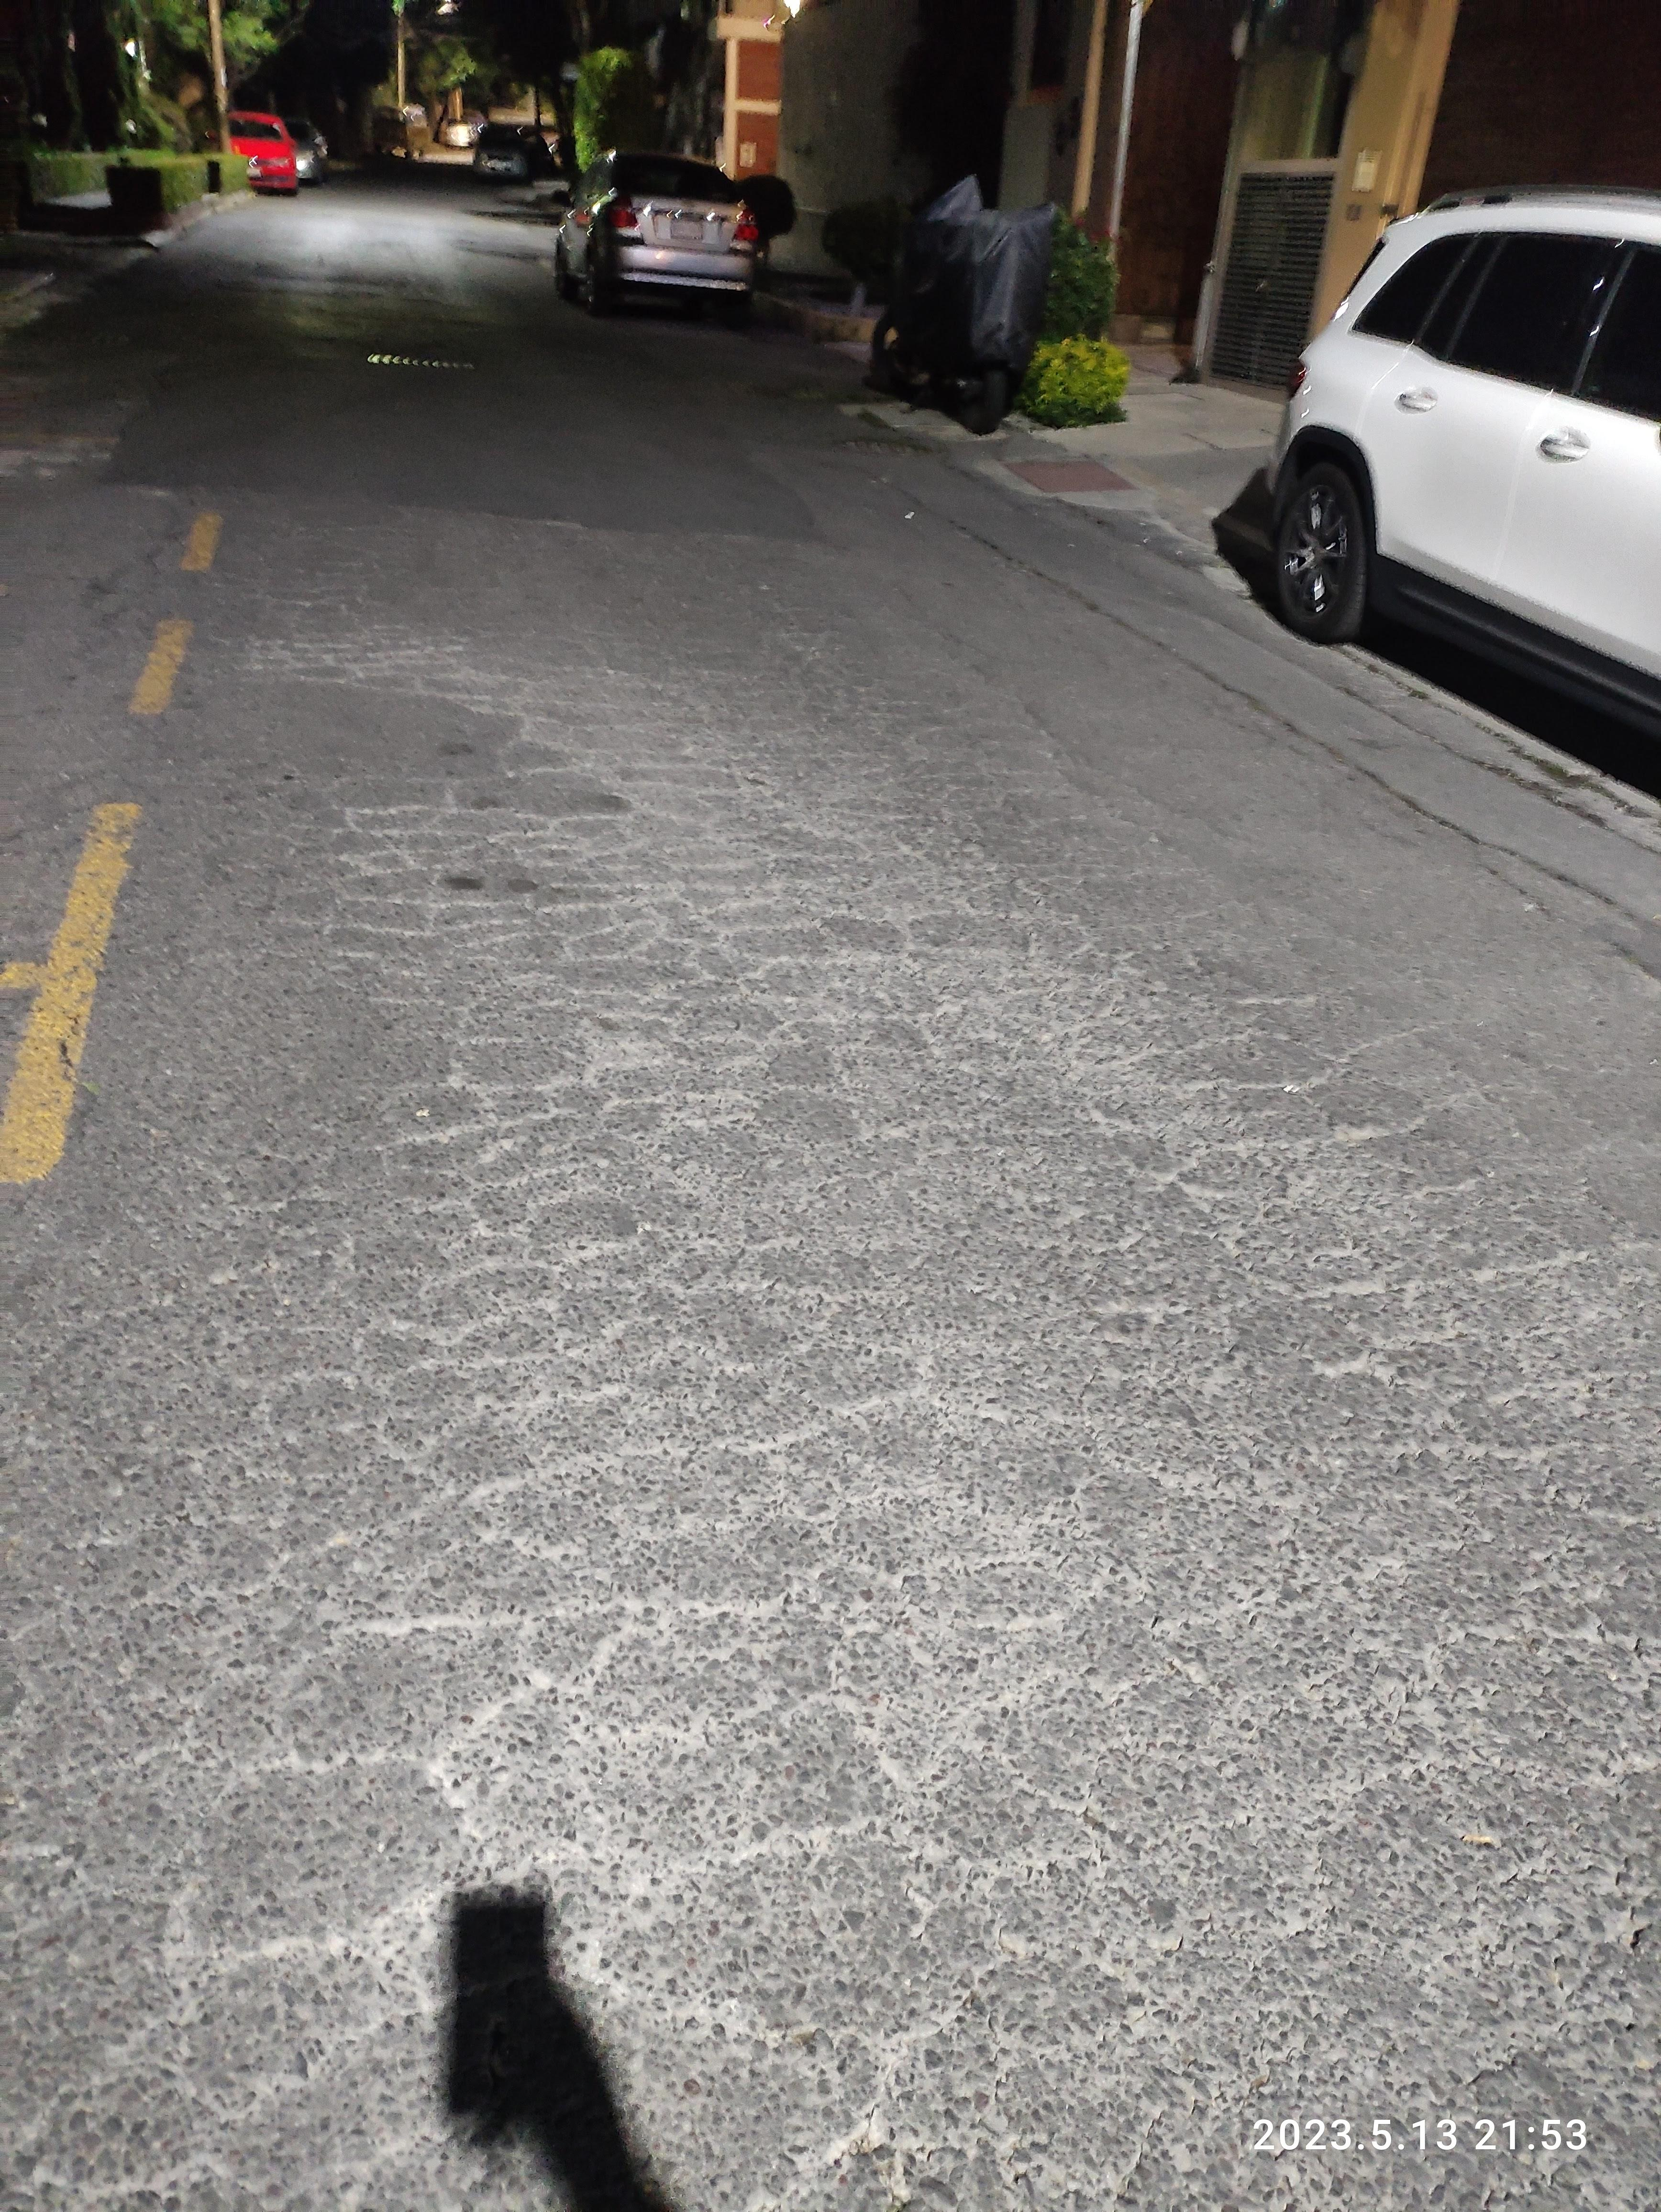alligator-crack: (85, 604, 1661, 2212)
